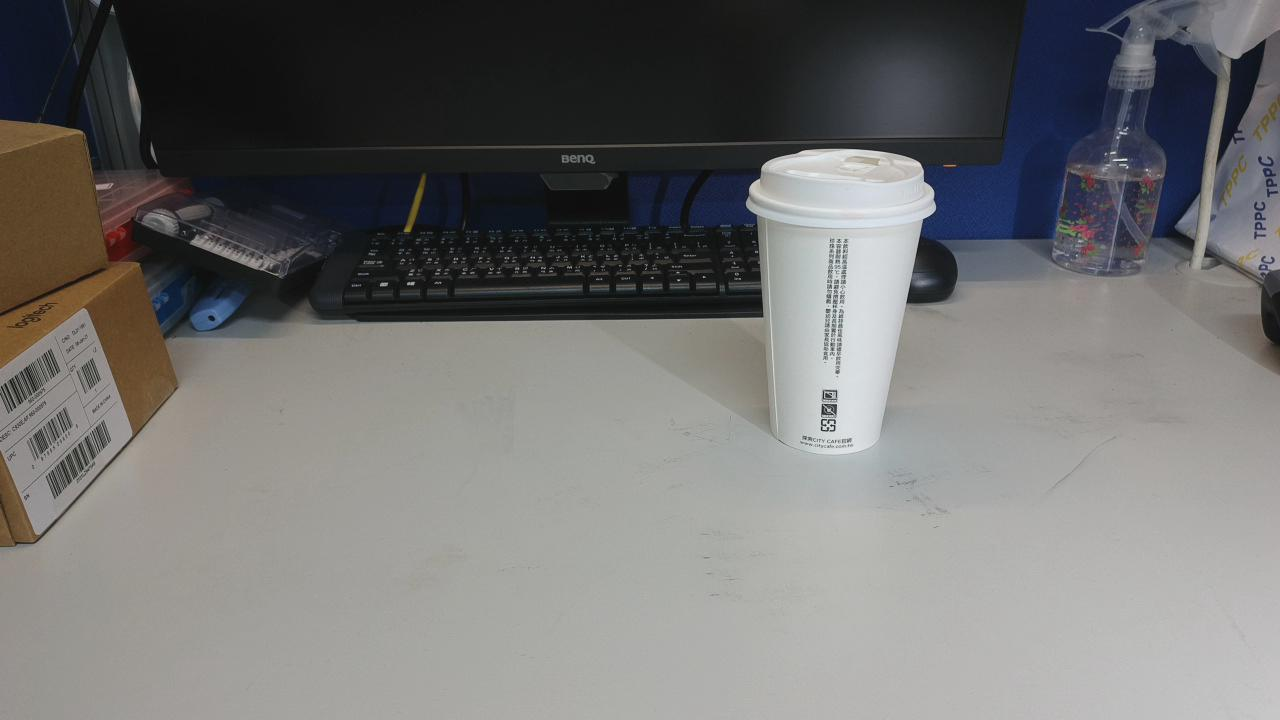columnar: (473, 262, 671, 493)
grip: (428, 339, 516, 458)
